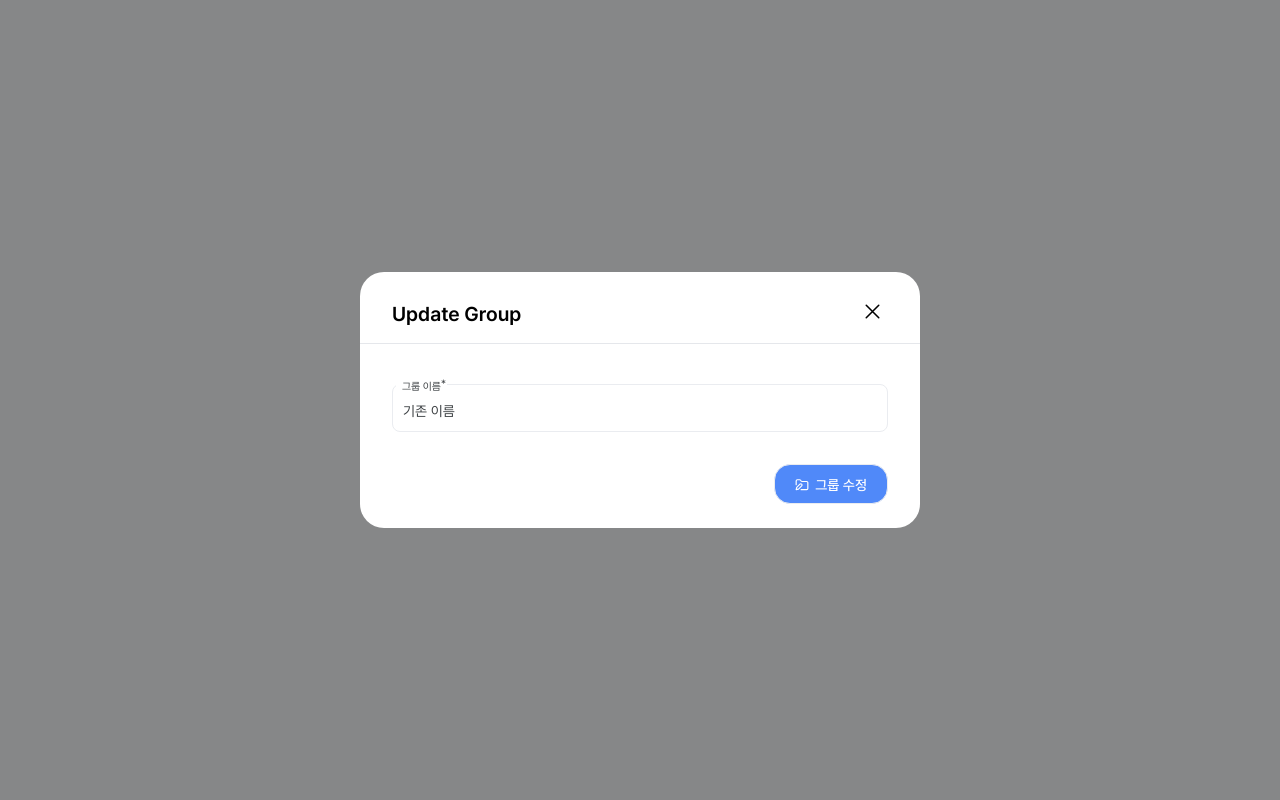
Scenario: UpdateGroup 컴포넌트 단위 테스트 › 서버의 유효성 검사를 통과하지 못하면 에러 메시지가 렌더링 된다.
The width and height of the screenshot is (1280, 800).
Replace the text in the field labelled "그룹 이름" with "중복된 그룹 이름" at [640, 408], box x1=392 y1=384 x2=888 y2=432
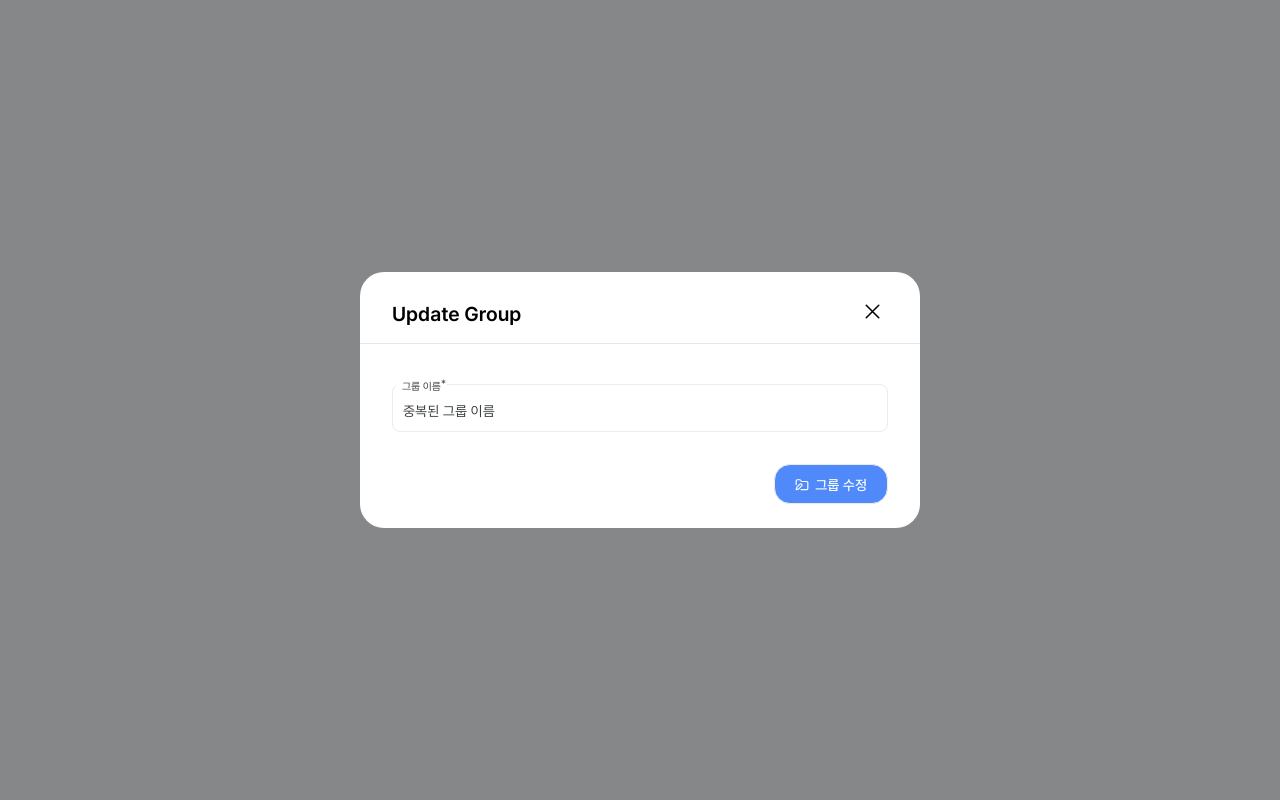
Click the button "그룹 수정" at [831, 484], box x1=774 y1=464 x2=888 y2=504
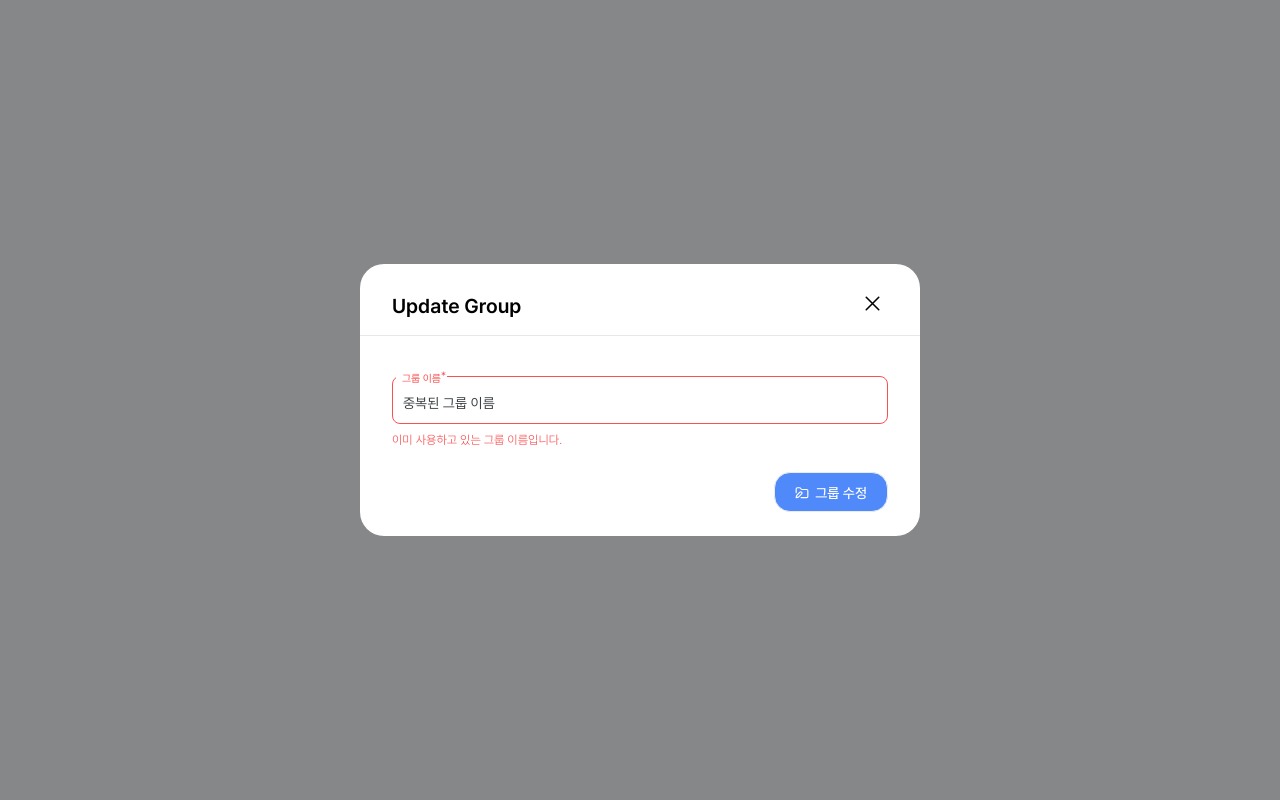
Expected: the text "이미 사용하고 있는 그룹 이름입니다." is shown, x1=392 y1=433 x2=562 y2=447
